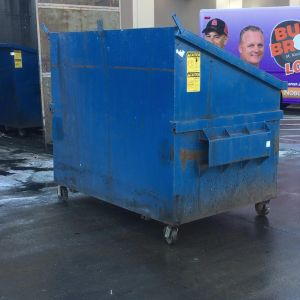Dumpster: (40, 15, 291, 248)
